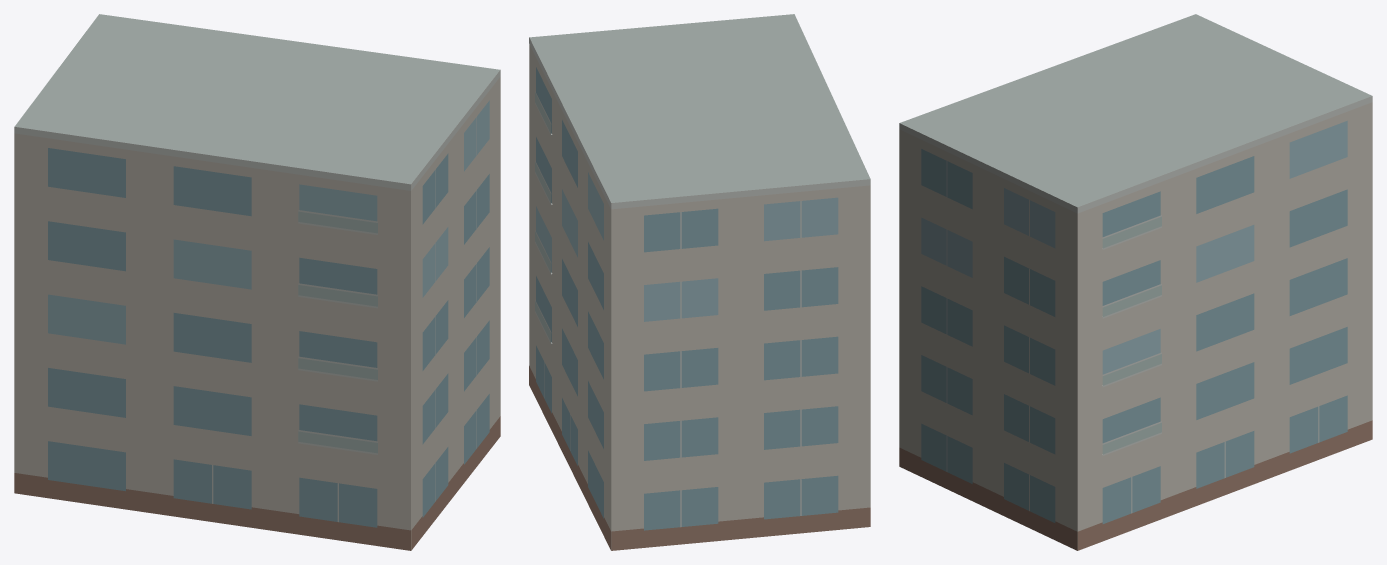
Rendered from survey-upis-32832285.glb.
3 views of the same model, side by side, from view 1: azimuth 30°, elevation 25°; view 2: azimuth 150°, elevation 25°; view 3: azimuth 270°, elevation 25° (orthographic). The views are drawn at different scales.
Visible parts, largest first — view 1: survey-upis-32832285.tmp; view 2: survey-upis-32832285.tmp; view 3: survey-upis-32832285.tmp.
Part boxes in pixels (x1,y1,x2,y2): survey-upis-32832285.tmp: (14,14,500,550); survey-upis-32832285.tmp: (529,14,870,550); survey-upis-32832285.tmp: (899,14,1372,550).
Bounding box in the file's own units: 16.37 × 13.55 × 16.93.
